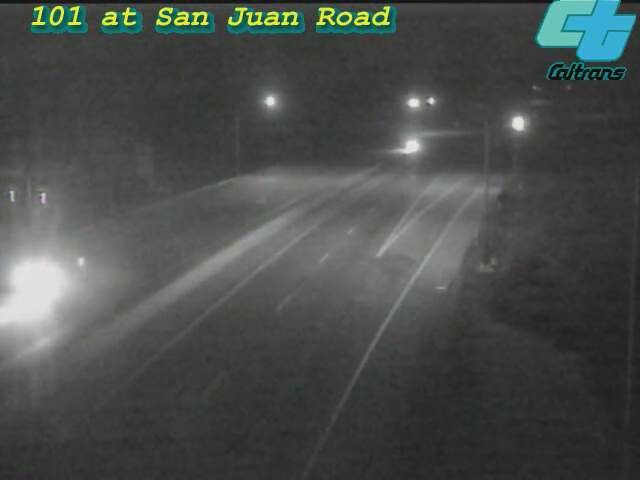vehicle: (1, 246, 70, 326), (388, 121, 438, 171), (496, 98, 546, 148)
